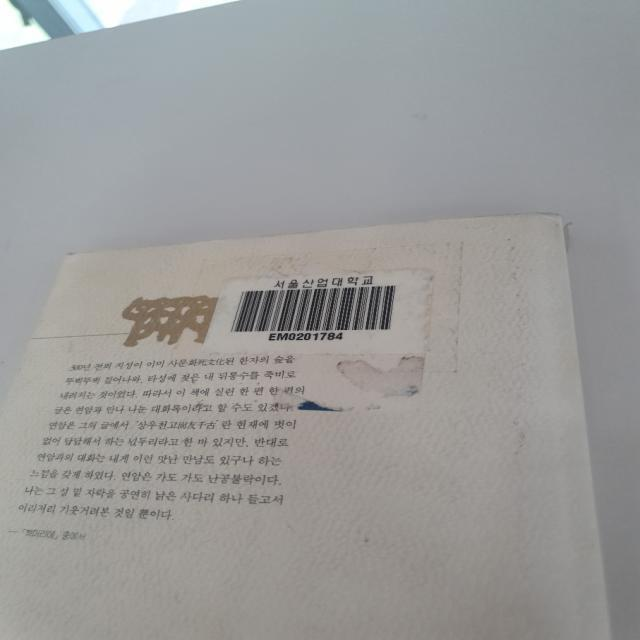Ripped: (545, 204, 584, 259)
Wornout: (57, 243, 149, 261)
